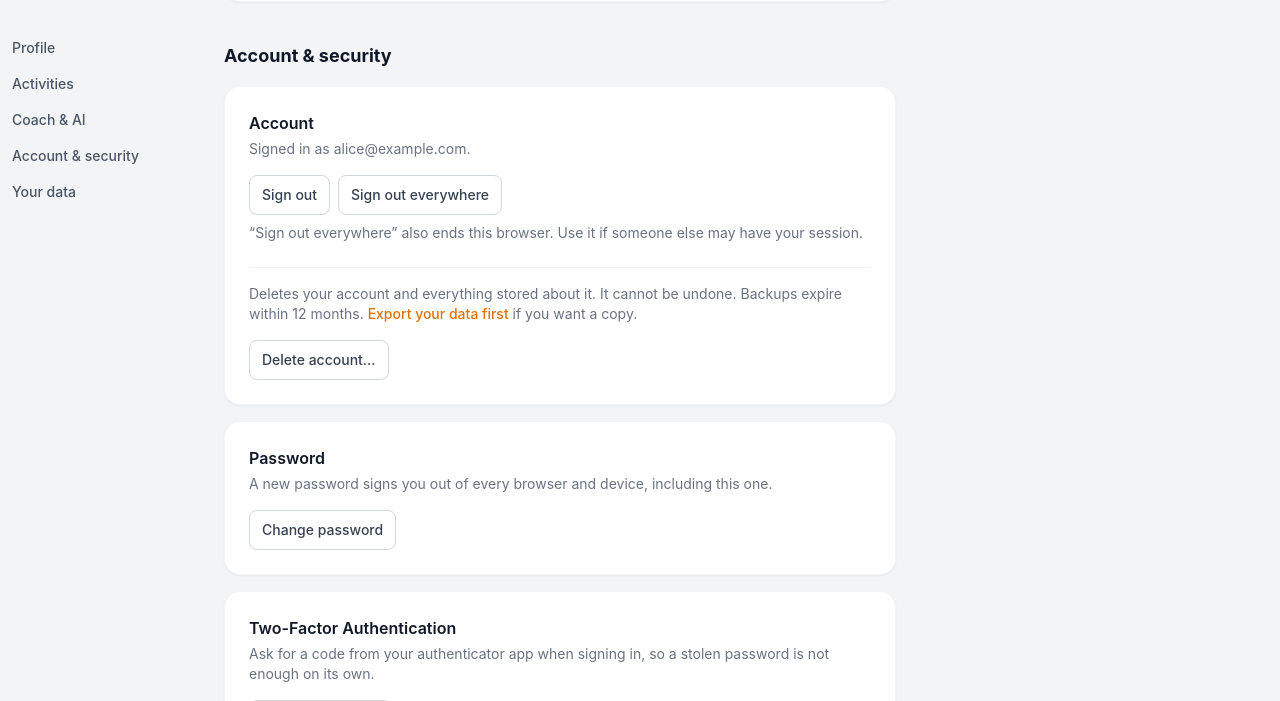
Scenario: SettingsPage › does not delete the account when the password step is cancelled
(page scrolled)
Step 1. Click the button "Delete account…" → (319,360), box [249,340,389,380]
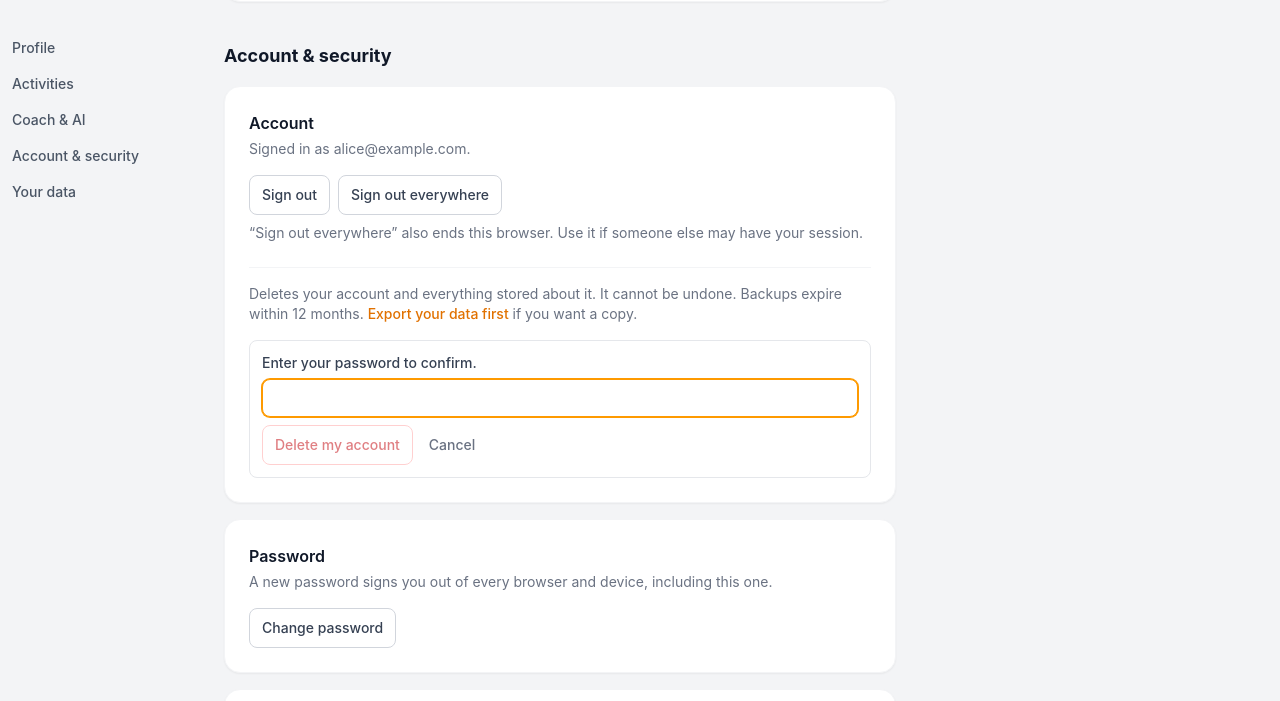
Now the button "Delete my account" is disabled, box [262,425,413,465]
Step 2. Click the button "Cancel" → (452,445), box [421,425,483,465]
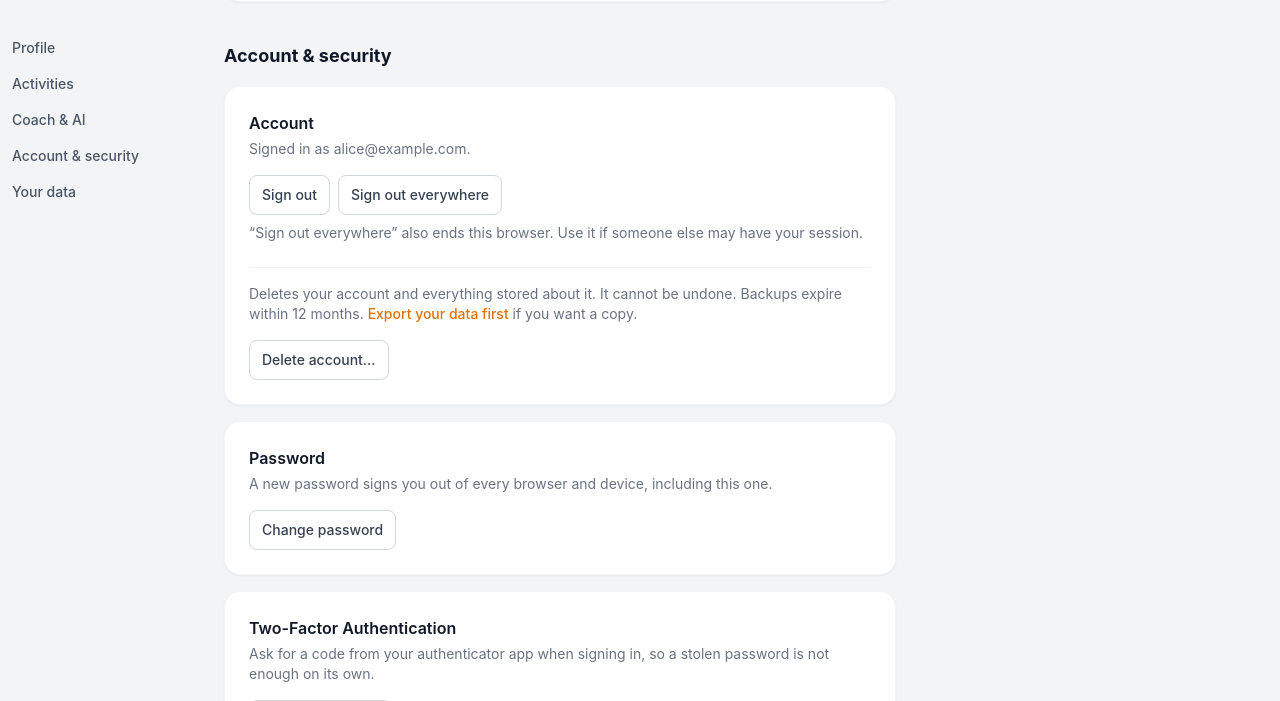
Now the label labelled "Enter your password to confirm." is gone
Now the button "Delete account…" is shown, box [249,340,389,380]
